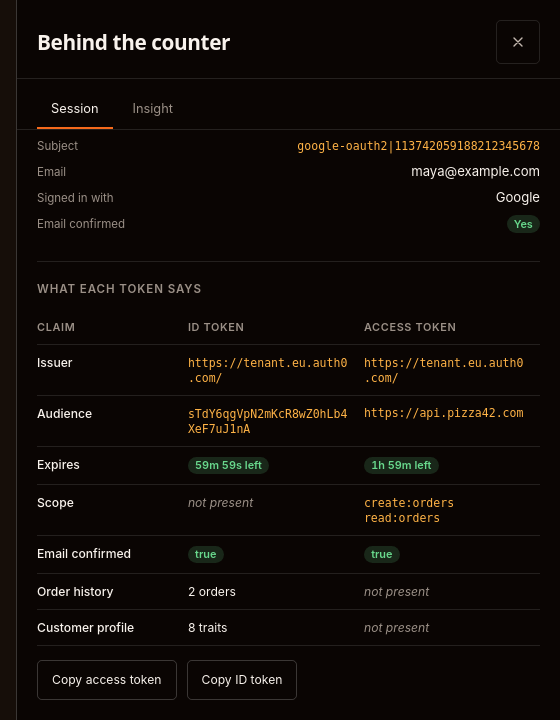
Test: Behind the counter › says the copy was blocked rather than appearing to have worked
(page scrolled)
Step 1. Click the button "Copy ID token" → [242, 680], box left=186, top=660, right=297, bottom=700
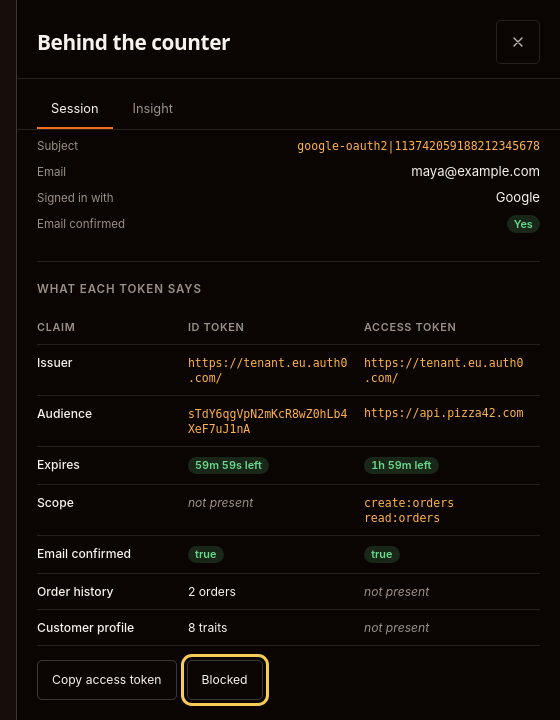
Result: the button "Blocked" is shown at left=186, top=660, right=263, bottom=700
